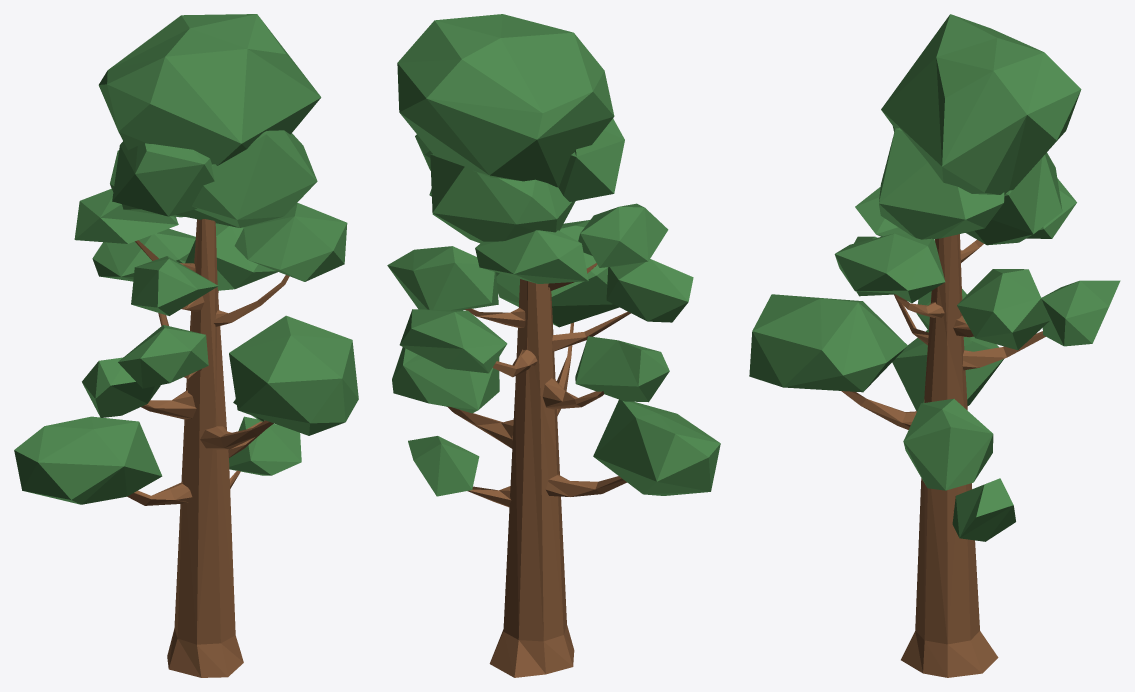
Rendered from tree_n1.glb.
3 views of the same model, side by side, from view 1: azimuth 30°, elevation 25°; view 2: azimuth 150°, elevation 25°; view 3: azimuth 270°, elevation 25° (orthographic). The views are drawn at different scales.
Parts seen in each view (by area): view 1: Object_43, Object_39, Object_41; view 2: Object_43, Object_39, Object_41; view 3: Object_43, Object_39, Object_41.
Boxes of the visible parts, box(x1,y1,x2,y2) form: Object_43: box(14, 14, 358, 504); Object_39: box(167, 219, 243, 677); Object_41: box(127, 240, 289, 505); Object_43: box(387, 14, 720, 496); Object_39: box(489, 279, 574, 677); Object_41: box(447, 263, 630, 507); Object_43: box(749, 14, 1120, 541); Object_39: box(901, 234, 998, 677); Object_41: box(841, 240, 1045, 510).
Bounding box in the file's own units: 5.98 × 11 × 5.9.
